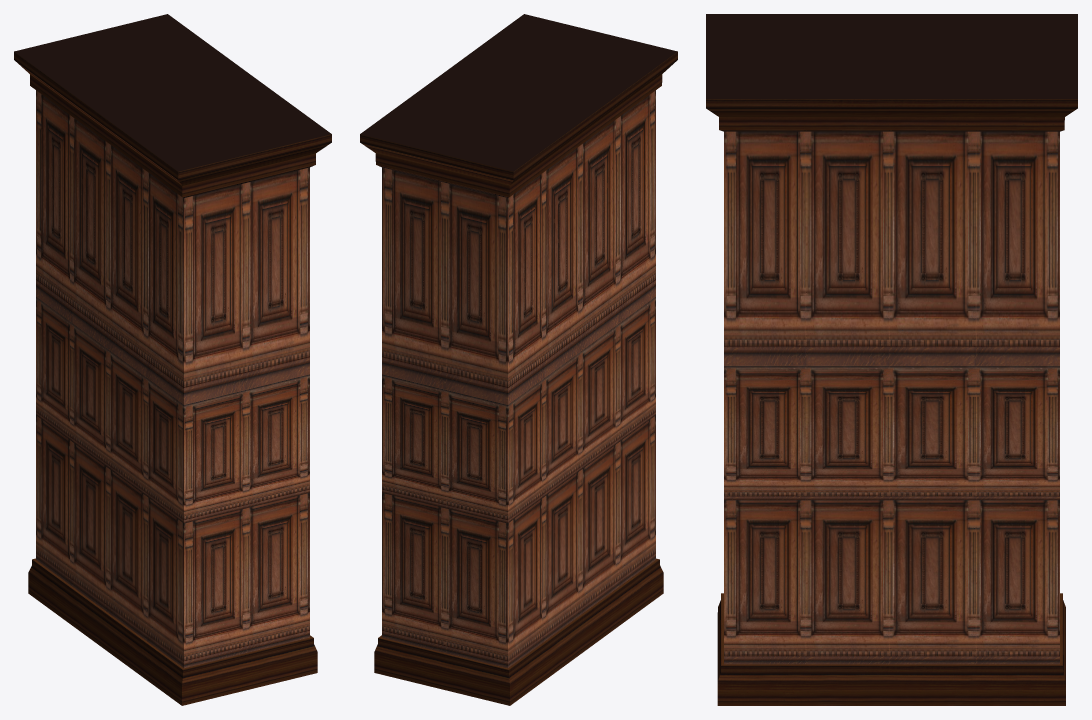
The model's file is WoodPanelBox.fbx.
The picture shows the model from 3 angles, left to right: view 1: azimuth 30°, elevation 25°; view 2: azimuth 150°, elevation 25°; view 3: azimuth 270°, elevation 25°; orthographic projection. The views are drawn at different scales.
Visible parts, largest first — view 1: Wall_wpBox; view 2: Wall_wpBox; view 3: Wall_wpBox.
Part boxes in pixels (left/top/right/bottom): Wall_wpBox: left=14, top=14, right=331, bottom=705; Wall_wpBox: left=360, top=14, right=677, bottom=705; Wall_wpBox: left=706, top=14, right=1077, bottom=705.
Bounding box in the file's own units: 111 × 371 × 205.
